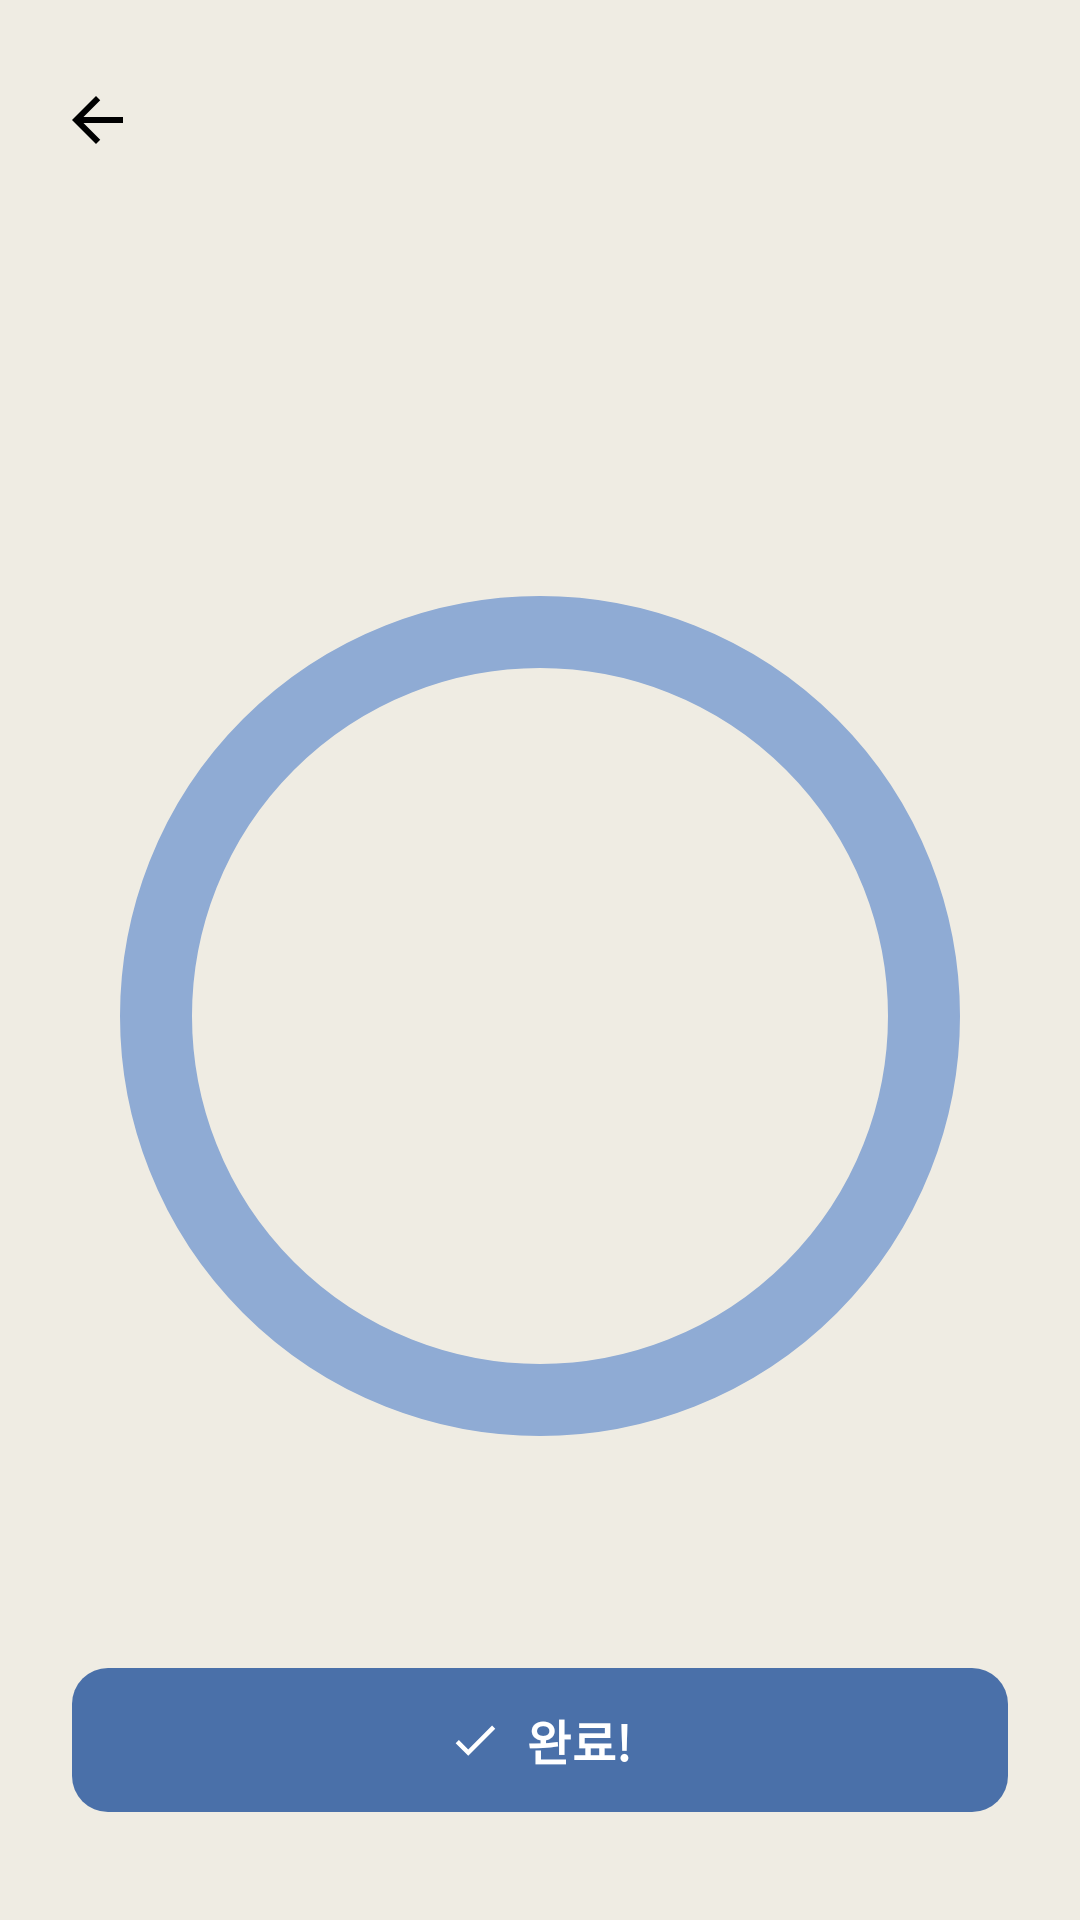

Named icons in this screenshot (1080×1920) and their bounding boxes, (x1, y1, x2, y2):
뒤로 가기: (72, 96, 123, 144)
